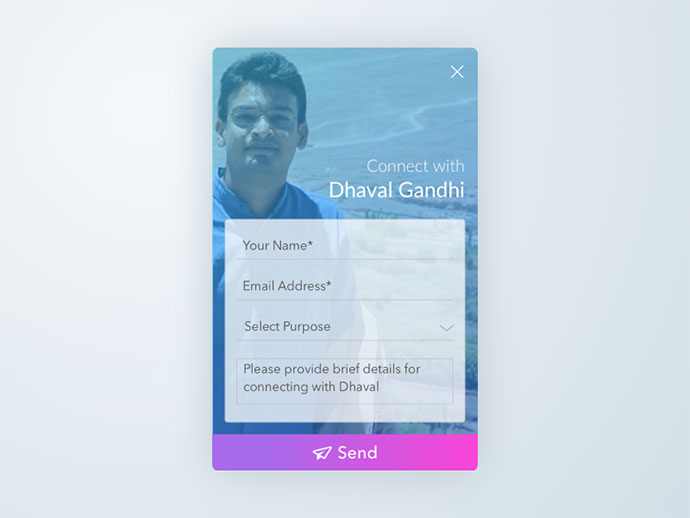_form_: (116, 58, 533, 474)
button: (211, 433, 478, 472)
field: (235, 357, 456, 405)
field_line: (237, 276, 456, 303), (237, 317, 456, 342), (236, 236, 454, 261)
